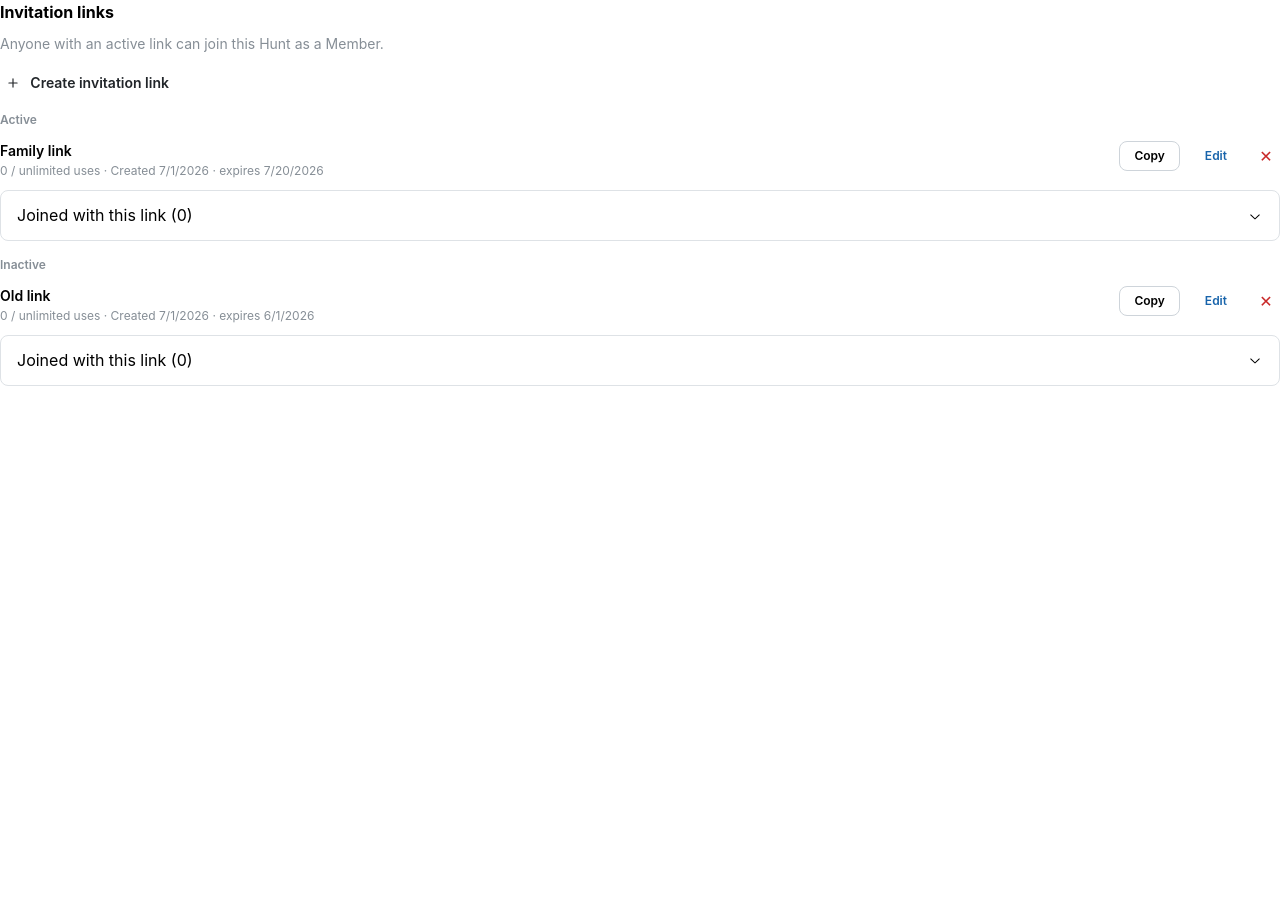
InvitationLinksSection › keeps create fields hidden until the subtle button opens the modal
Check: the button "Create and copy link" is not shown
Step 1. Click the button "Create invitation link" → coordinates (89, 83), box [0,70,178,96]
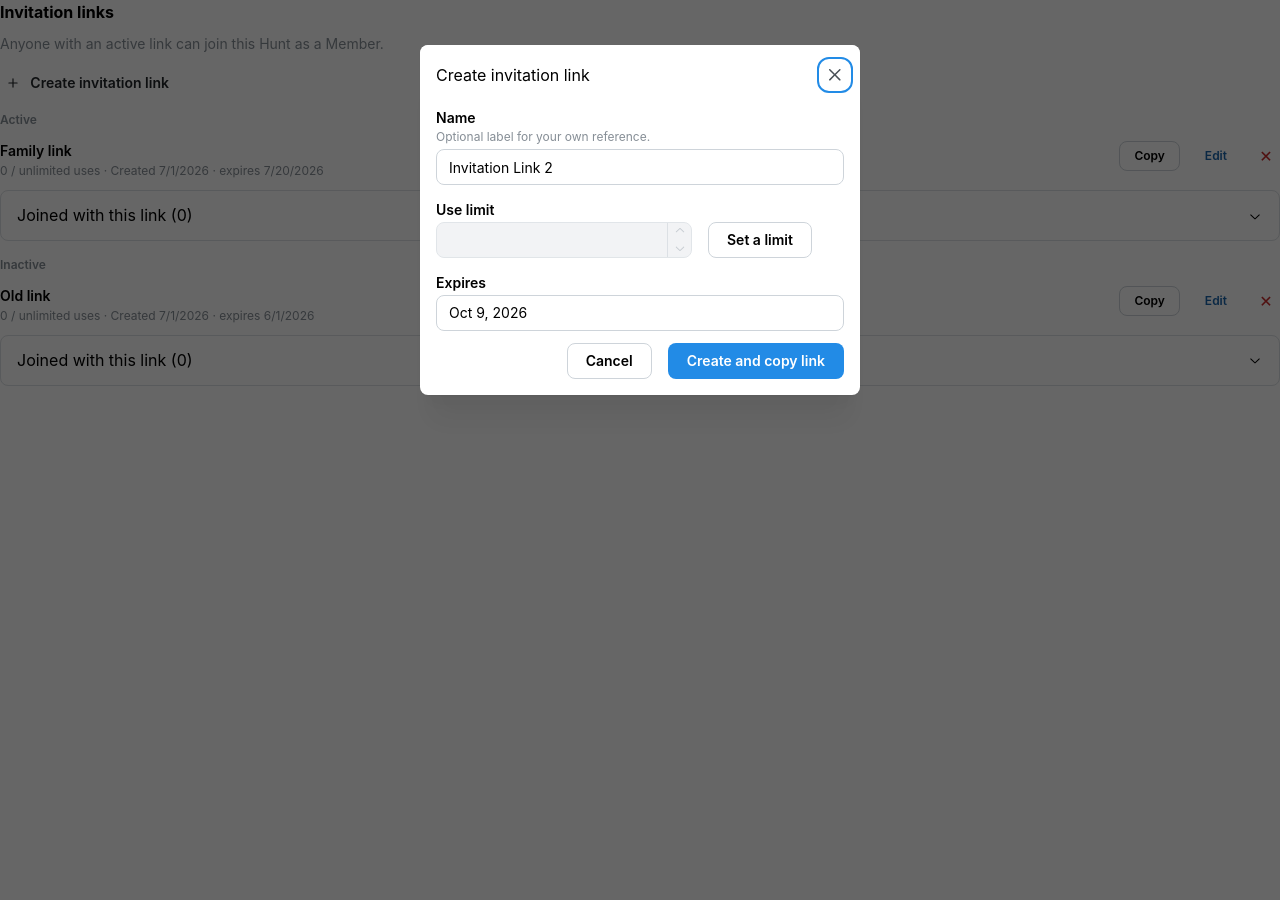
Check: the field labelled "Name" holds "Invitation Link 2", box [436,149,844,185]
Check: the button "Create and copy link" is shown, box [668,343,844,379]
